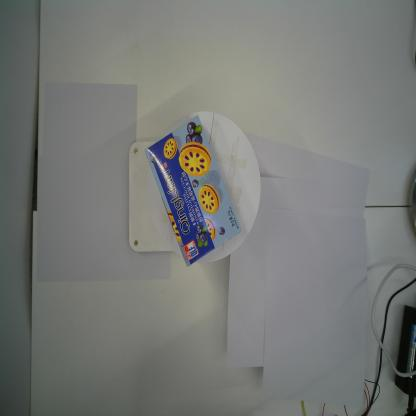Dessert: (144, 113, 242, 268)
